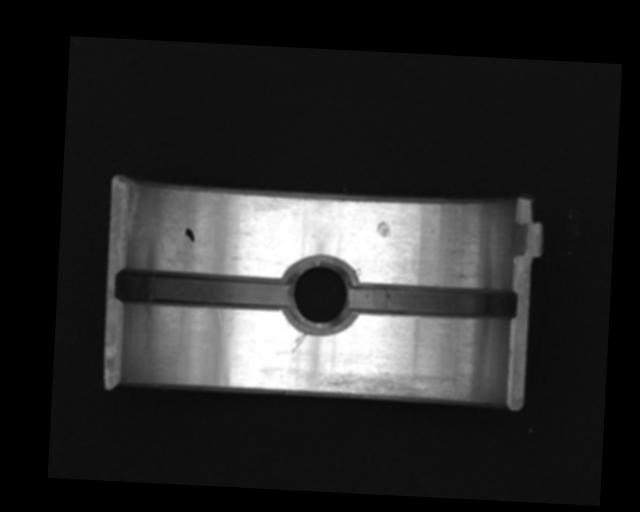blot: (183, 226, 196, 243)
bruise: (374, 220, 392, 238)
gap: (113, 267, 294, 312), (349, 280, 519, 321)
hole: (285, 255, 358, 336)
nick: (291, 331, 307, 355)
scratch: (313, 366, 468, 404)
